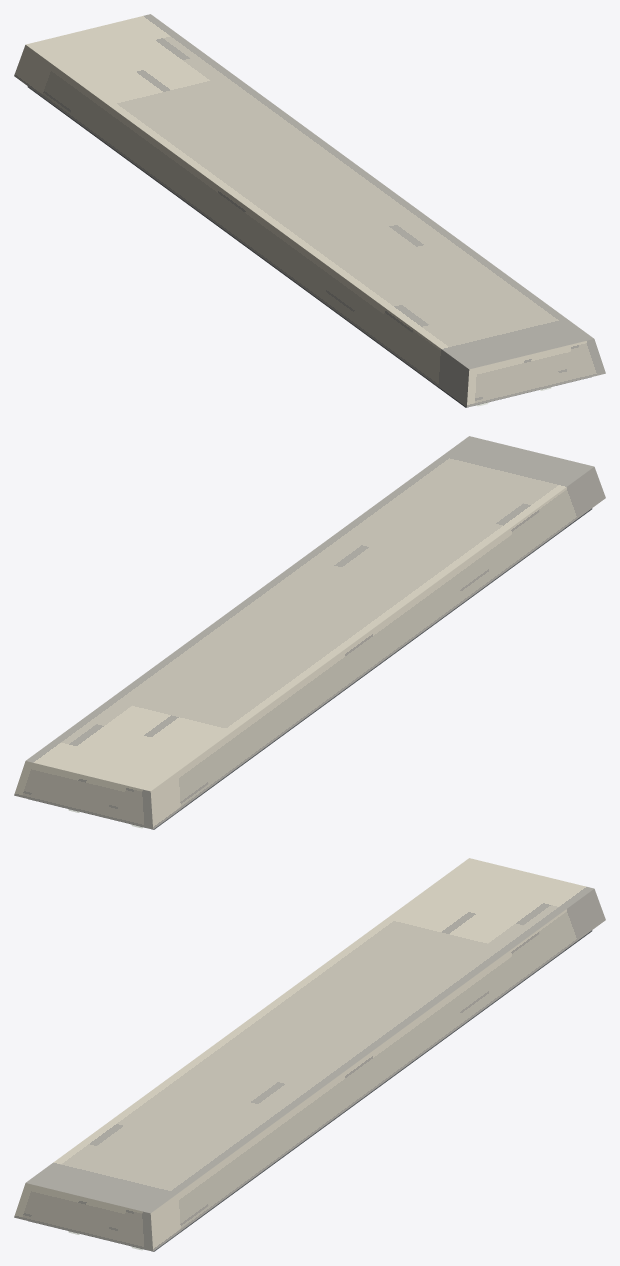
The model's file is LGT_FluorescentFixture.glb.
The picture shows the model from 3 angles, top to bottom: view 1: azimuth 30°, elevation 25°; view 2: azimuth 150°, elevation 25°; view 3: azimuth 330°, elevation 25°; orthographic projection.
Visible parts, largest first — view 1: LGT_FluorescentFixture_Mesh; view 2: LGT_FluorescentFixture_Mesh; view 3: LGT_FluorescentFixture_Mesh.
Boxes of the visible parts, box(x1,y1,x2,y2) form: LGT_FluorescentFixture_Mesh: box(14, 14, 605, 407); LGT_FluorescentFixture_Mesh: box(14, 436, 605, 829); LGT_FluorescentFixture_Mesh: box(14, 858, 605, 1251).
Size of the model in its own units: 0.22 by 0.0849 by 1.24.
2 materials, 2 textured.
